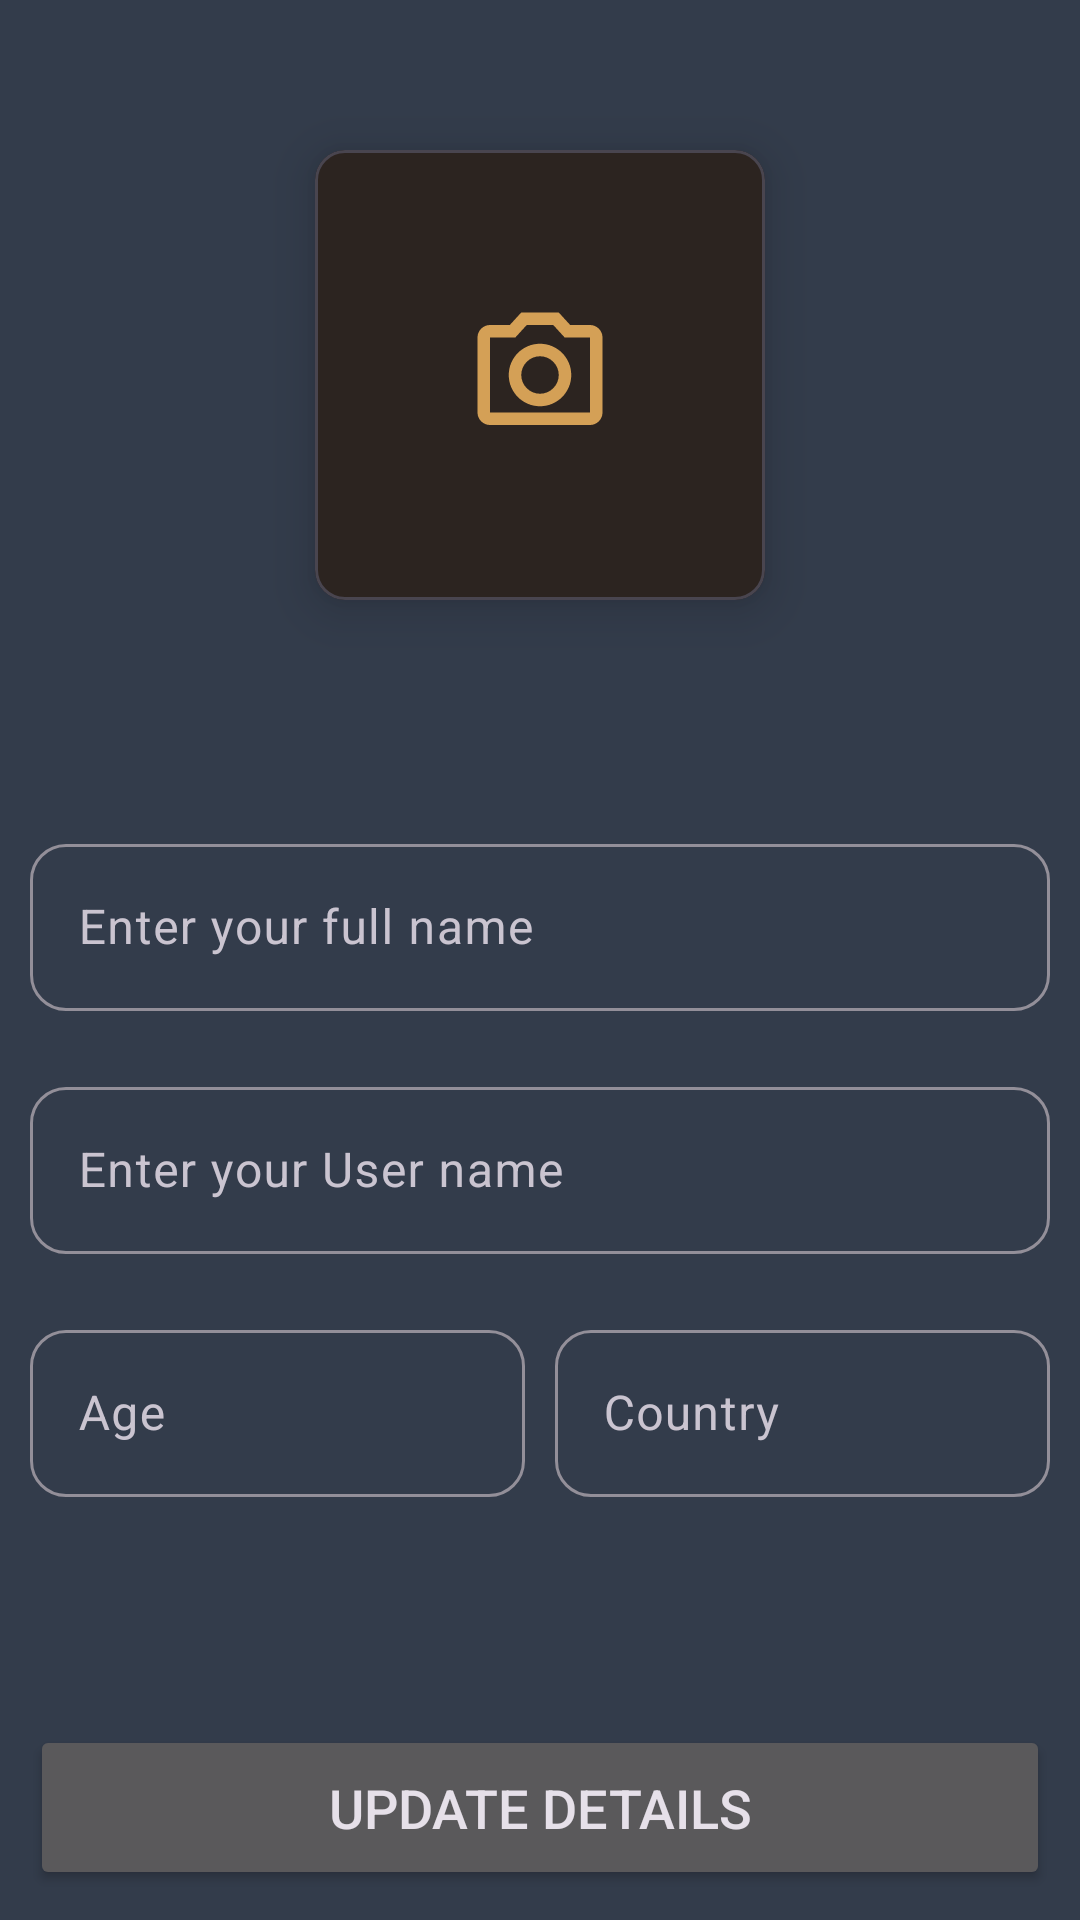

Locate icon controls on the screen. Image size 1080*1920, boxes as (x1, y1, x2, y2).
camera: (477, 312, 603, 425)
